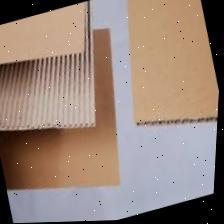cardboard: (0, 16, 148, 224), (94, 0, 224, 153), (0, 1, 114, 164)
